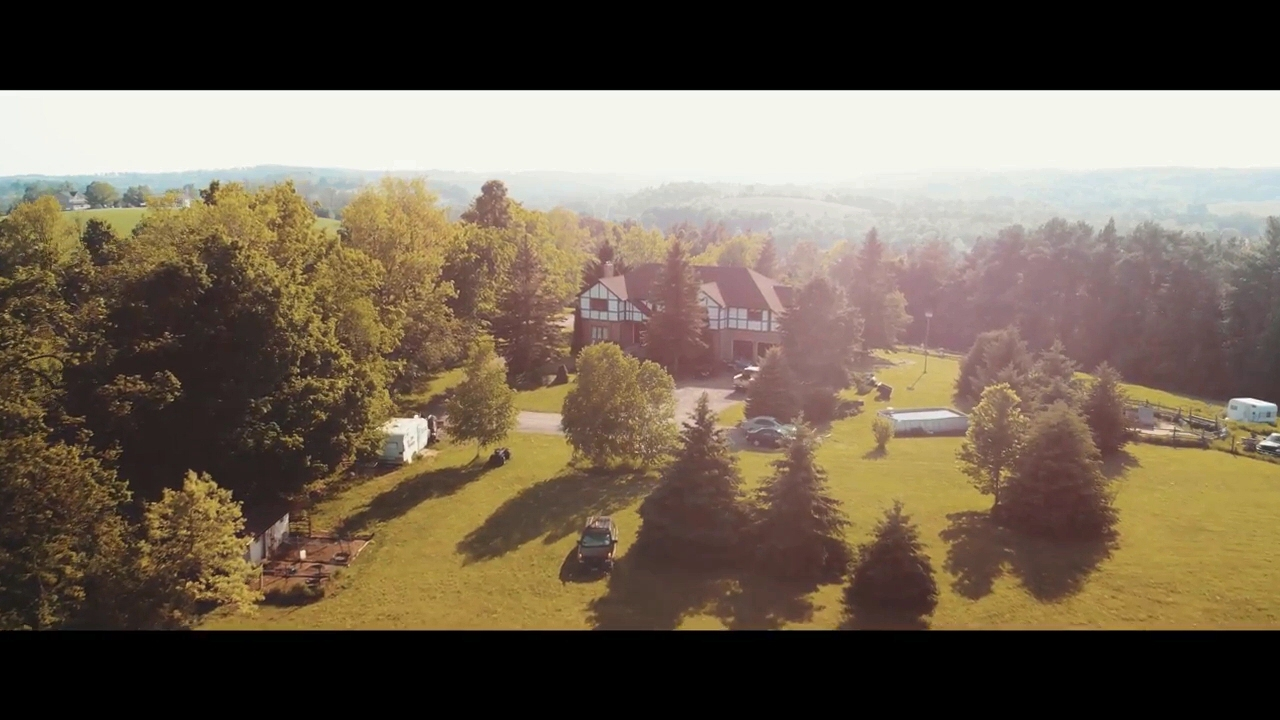araba: (574, 513, 614, 570), (744, 425, 793, 451), (739, 416, 793, 436)
